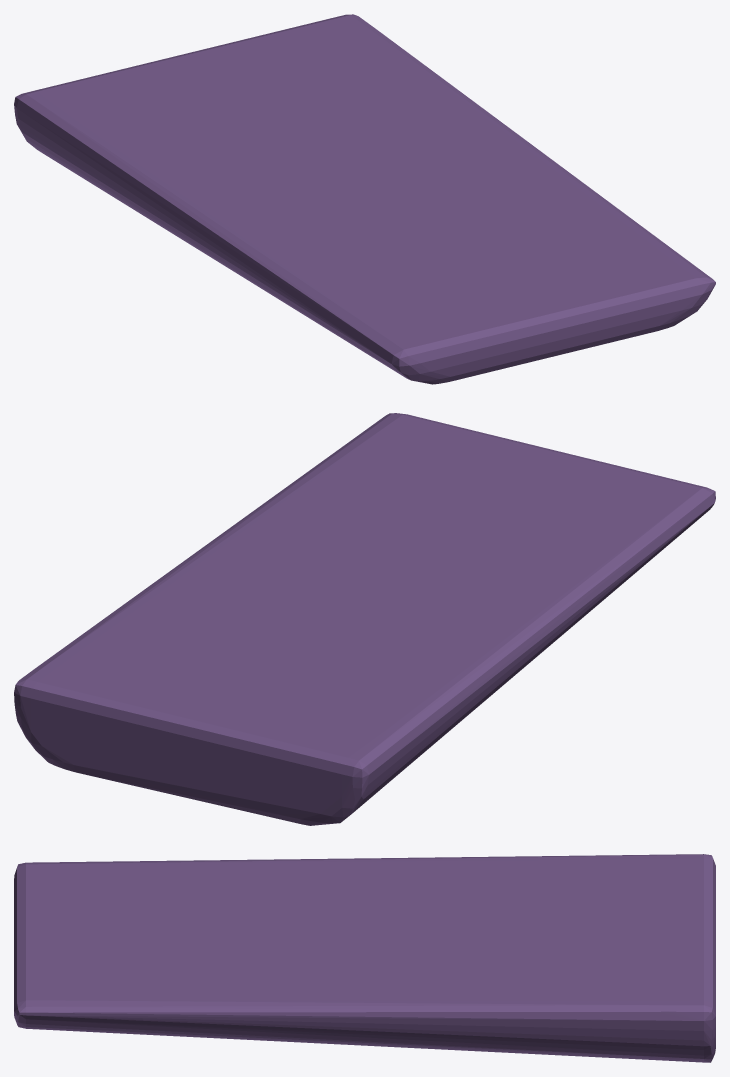
File: right_hip_pitch_link_part_1.obj
The picture shows the model from 3 angles, top to bottom: view 1: azimuth 30°, elevation 25°; view 2: azimuth 150°, elevation 25°; view 3: azimuth 270°, elevation 25°; orthographic projection. The views are drawn at different scales.
Bounding box in the file's own units: 0.0696 × 0.0148 × 0.129.
